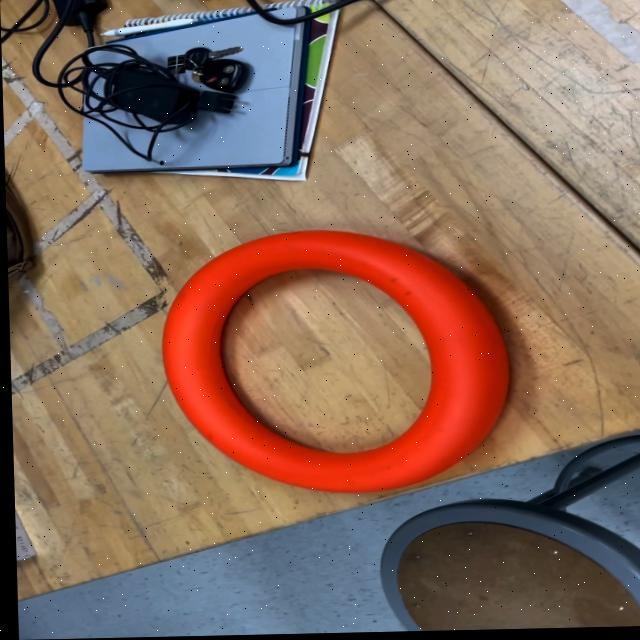note: (158, 231, 515, 500)
